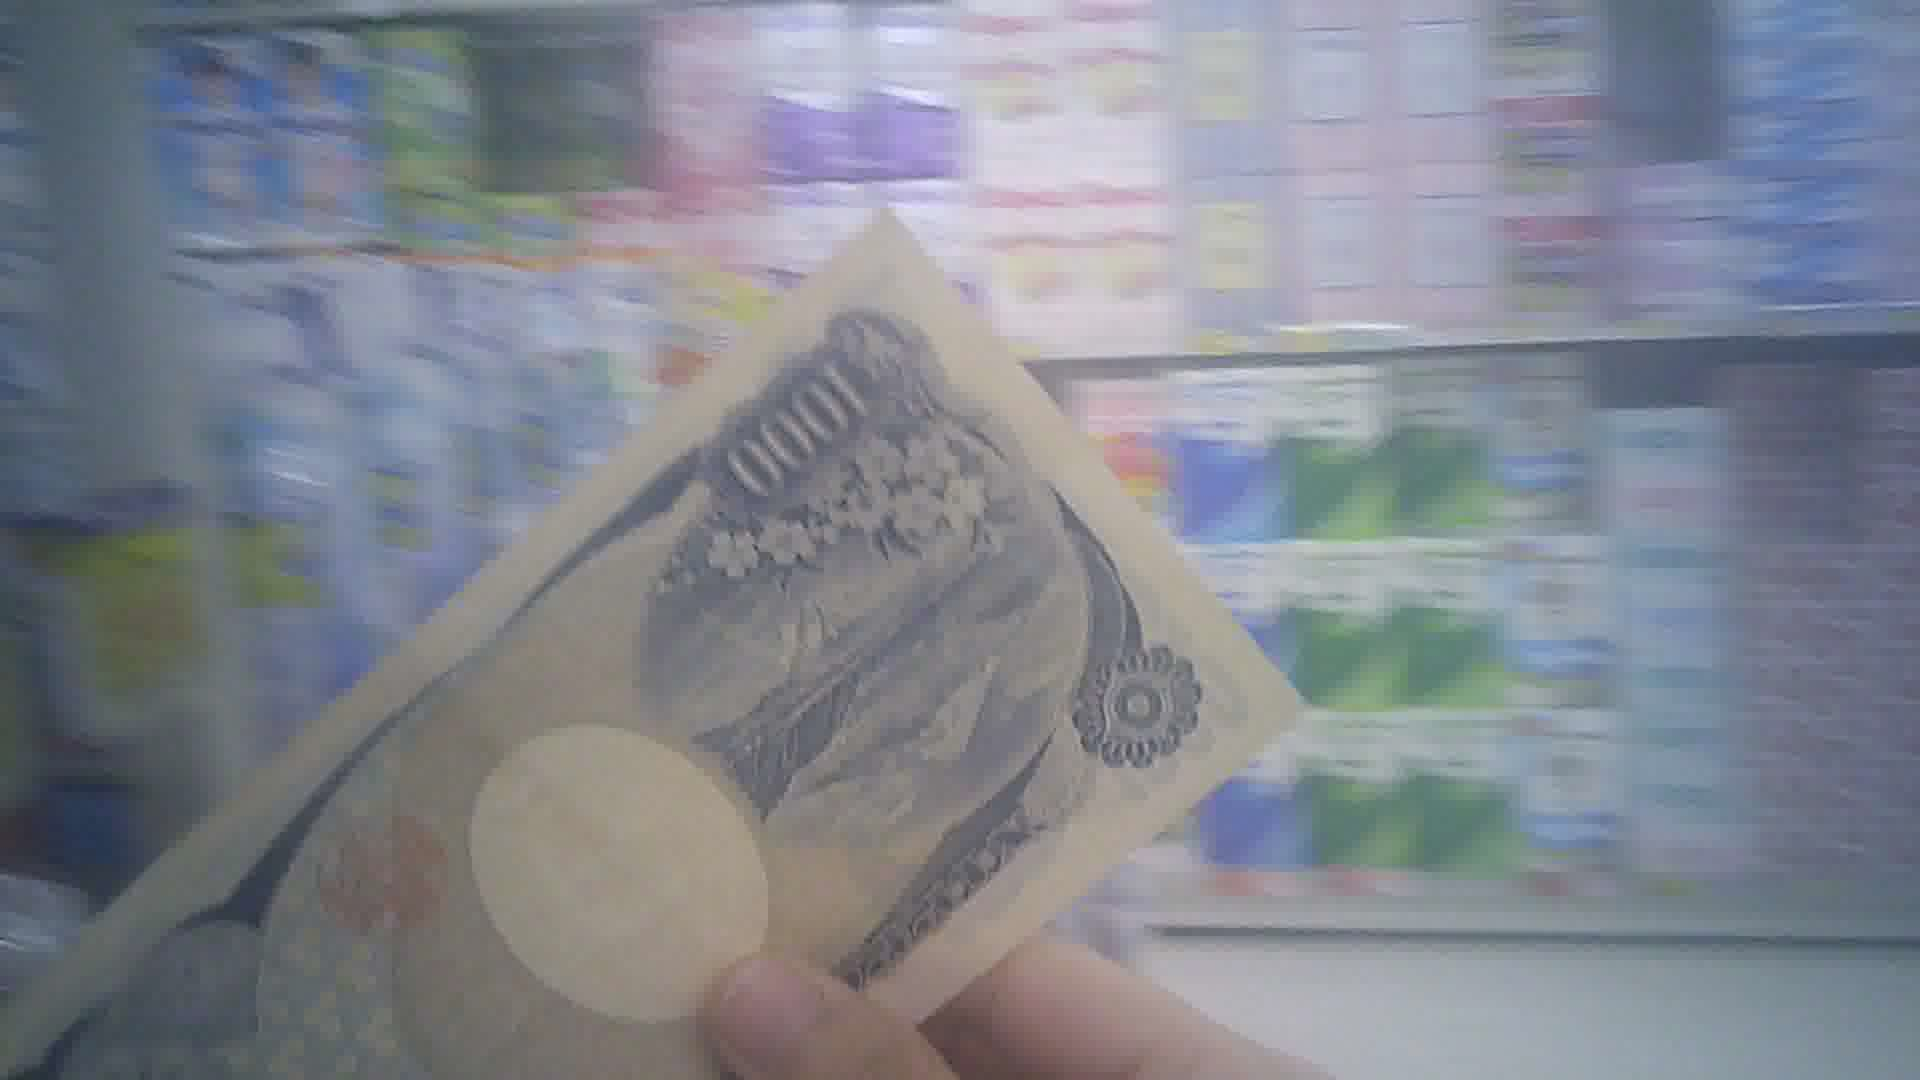1,000 Yen: (73, 202, 1325, 1079)
